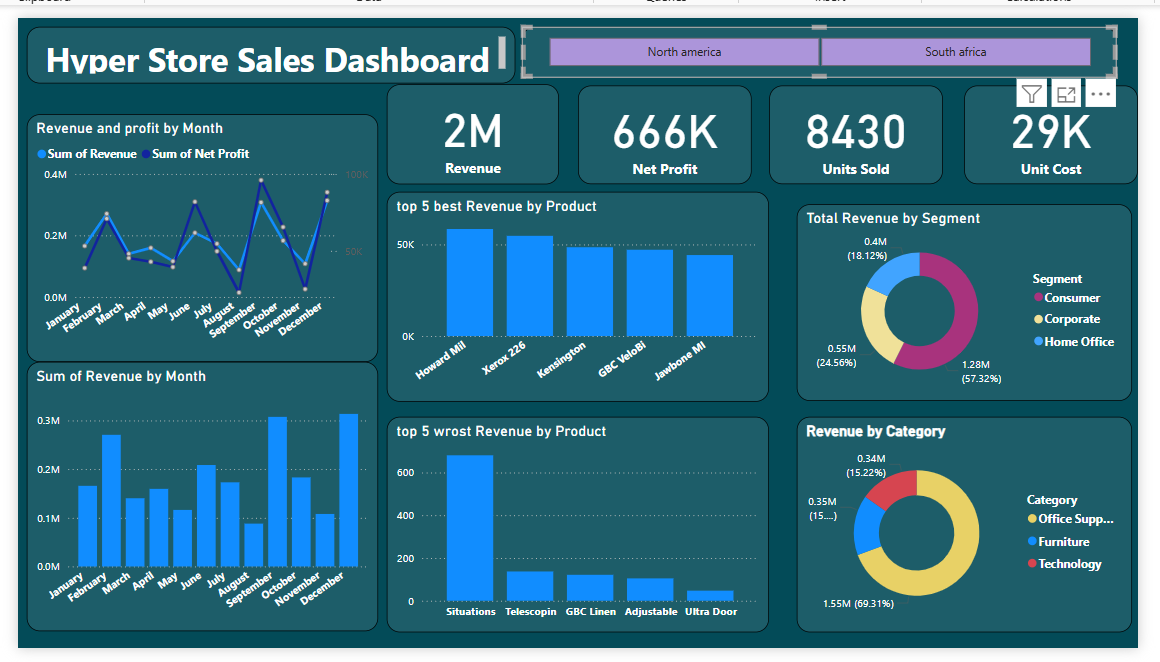

The page's visual inventory and layout, read from the dashboard file:
{"tool":"powerbi","page":{"name":"Hyper sales dashboard","canvas":[1280,720],"ordinal":0},"visuals":[{"type":"textbox","box":[10,10,558.3,65],"z":0},{"type":"card","fields":{"Values":["Sum(HyperStoreDataSet.Revenue)"]},"box":[421.4,75.7,197.1,114.3],"z":1},{"type":"card","fields":{"Values":["Sum(HyperStoreDataSet.Net Profit)"]},"box":[640,77.1,198.6,112.9],"z":2},{"type":"card","fields":{"Values":["Sum(HyperStoreDataSet.Units Sold)"]},"box":[858.6,77.1,198.6,112.9],"z":3},{"type":"card","fields":{"Values":["Sum(HyperStoreDataSet.Unit Cost)"]},"box":[1081.4,77.1,198.6,112.9],"z":4},{"type":"lineChart","title":"Revenue and profit by Month","fields":{"Y":["Sum(HyperStoreDataSet.Revenue)"],"Category":["HyperStoreDataSet.Delivery Date.Variation.Date Hierarchy.Month"],"Y2":["Sum(HyperStoreDataSet.Net Profit)"]},"box":[10,110,401.7,283.3],"z":5},{"type":"lineStackedColumnComboChart","fields":{"Y":["Sum(HyperStoreDataSet.Revenue)"],"Category":["HyperStoreDataSet.Delivery Date.Variation.Date Hierarchy.Month"]},"box":[10,393.3,401.7,308.3],"z":6},{"type":"columnChart","title":"top 5  best Revenue by Product ","fields":{"Category":["HyperStoreDataSet.Product Name"],"Y":["Sum(HyperStoreDataSet.Revenue)"]},"box":[421.7,198.3,436.7,240],"z":7},{"type":"columnChart","title":"top 5  wrost Revenue by Product","fields":{"Category":["HyperStoreDataSet.Product Name"],"Y":["Sum(HyperStoreDataSet.Revenue)"]},"box":[421.7,455,436.7,246.7],"z":8},{"type":"donutChart","title":"Total Revenue by Segment","fields":{"Y":["Sum(HyperStoreDataSet.Revenue)"],"Category":["HyperStoreDataSet.Segment"]},"box":[890,213.3,383.3,225],"z":9},{"type":"donutChart","title":"Revenue by Category","fields":{"Y":["Sum(HyperStoreDataSet.Revenue)"],"Category":["HyperStoreDataSet.Category"]},"box":[890,455,383.3,246.7],"z":10},{"type":"slicer","fields":{"Values":["HyperStoreDataSet.Country (groups)"]},"box":[576,10,680,58],"z":11}]}

Visuals, with their boxes on the page's 1280x720 design canvas (x1, y1, x2, y2). These are canvas units, not pixel positions in the 1160x662 screenshot, which may show the page scaled, cropped or inside an application window:
textbox: (10,10,568,75)
card - Sum(HyperStoreDataSet.Revenue): (421,76,618,190)
card - Sum(HyperStoreDataSet.Net Profit): (640,77,839,190)
card - Sum(HyperStoreDataSet.Units Sold): (859,77,1057,190)
card - Sum(HyperStoreDataSet.Unit Cost): (1081,77,1280,190)
"Revenue and profit by Month" lineChart: (10,110,412,393)
lineStackedColumnComboChart - Sum(HyperStoreDataSet.Revenue) x HyperStoreDataSet.Delivery Date.Variation.Date Hierarchy.Month: (10,393,412,702)
"top 5  best Revenue by Product " columnChart: (422,198,858,438)
"top 5  wrost Revenue by Product" columnChart: (422,455,858,702)
"Total Revenue by Segment" donutChart: (890,213,1273,438)
"Revenue by Category" donutChart: (890,455,1273,702)
slicer - HyperStoreDataSet.Country (groups): (576,10,1256,68)
